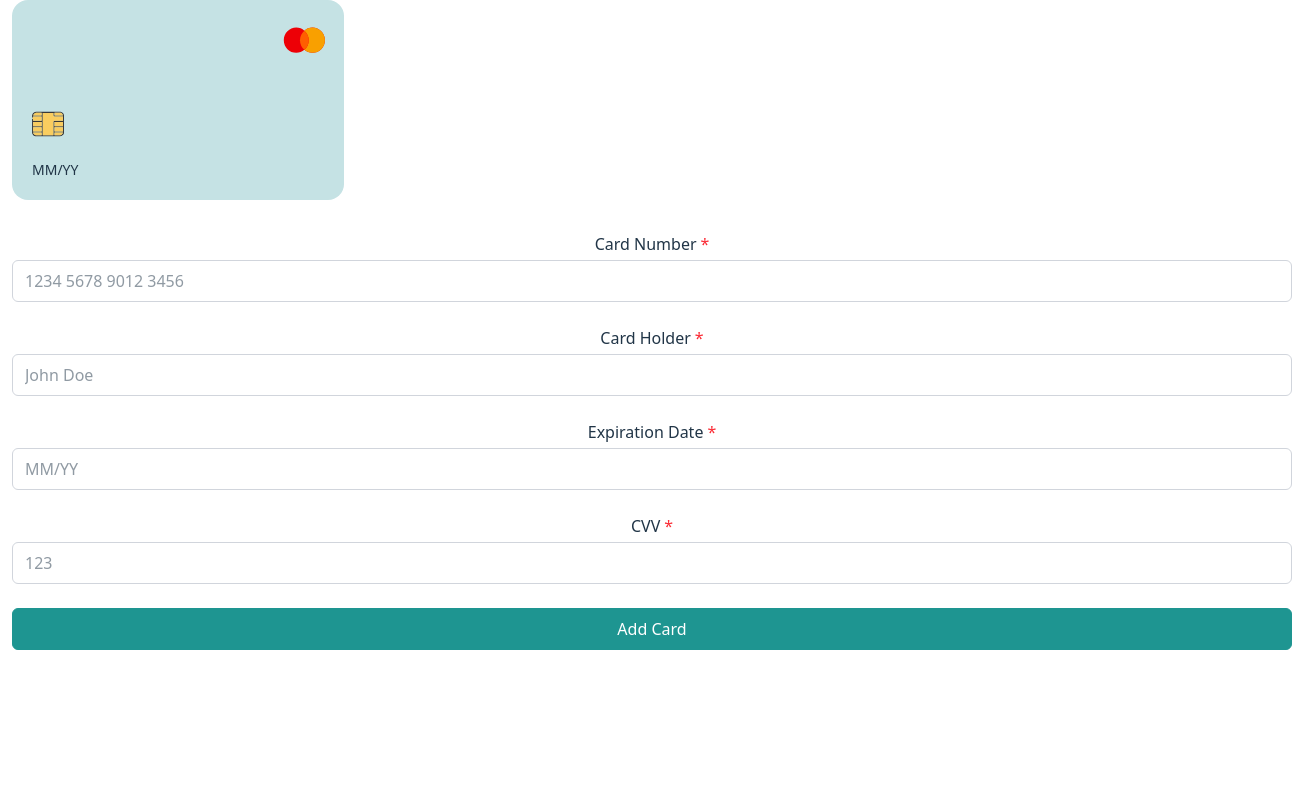
it: shows validation errors for invalid input
The width and height of the screenshot is (1304, 800).
Enter invalid data
Step 1. Type "123" into the field labelled "Card Number*" → [652, 281], box top-left (12, 260), bottom-right (1292, 302)
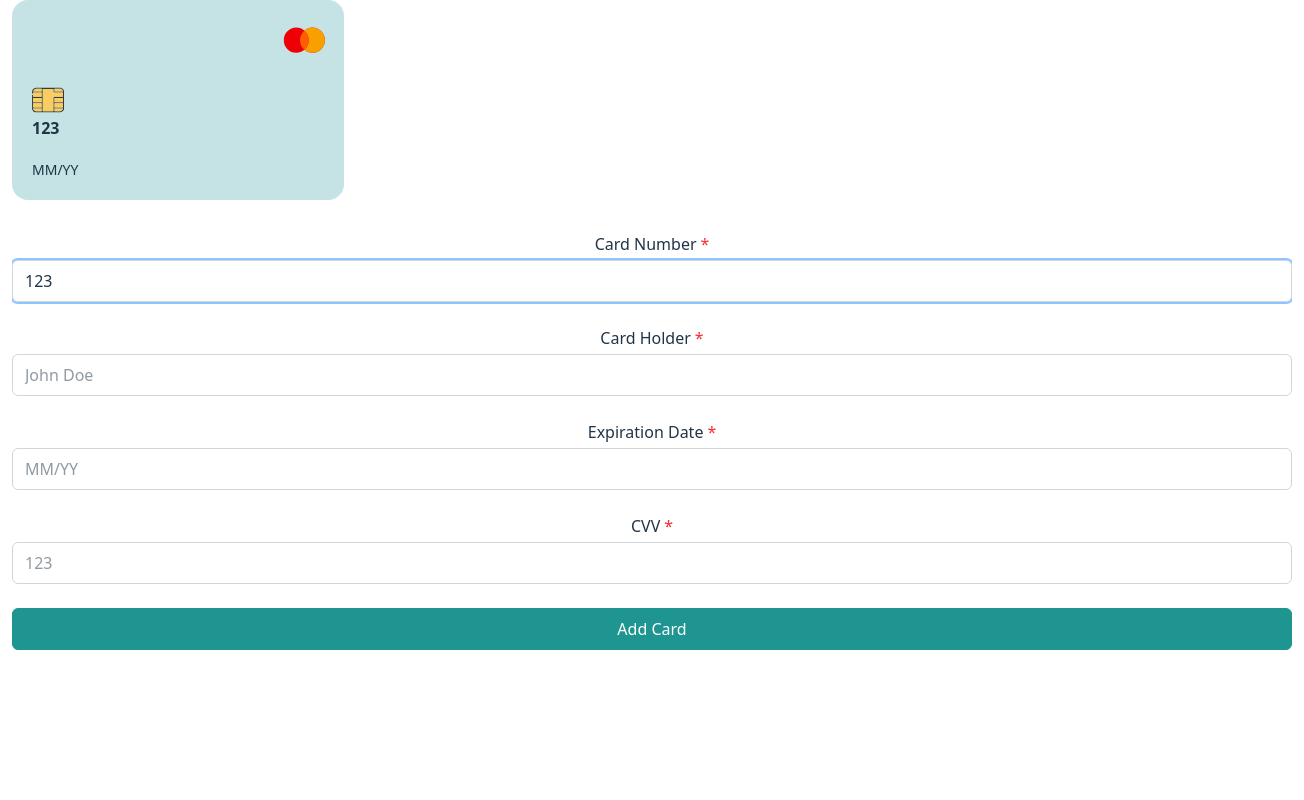
Step 2. Type "123" into the field labelled "Card Holder*" → [652, 375], box top-left (12, 354), bottom-right (1292, 396)
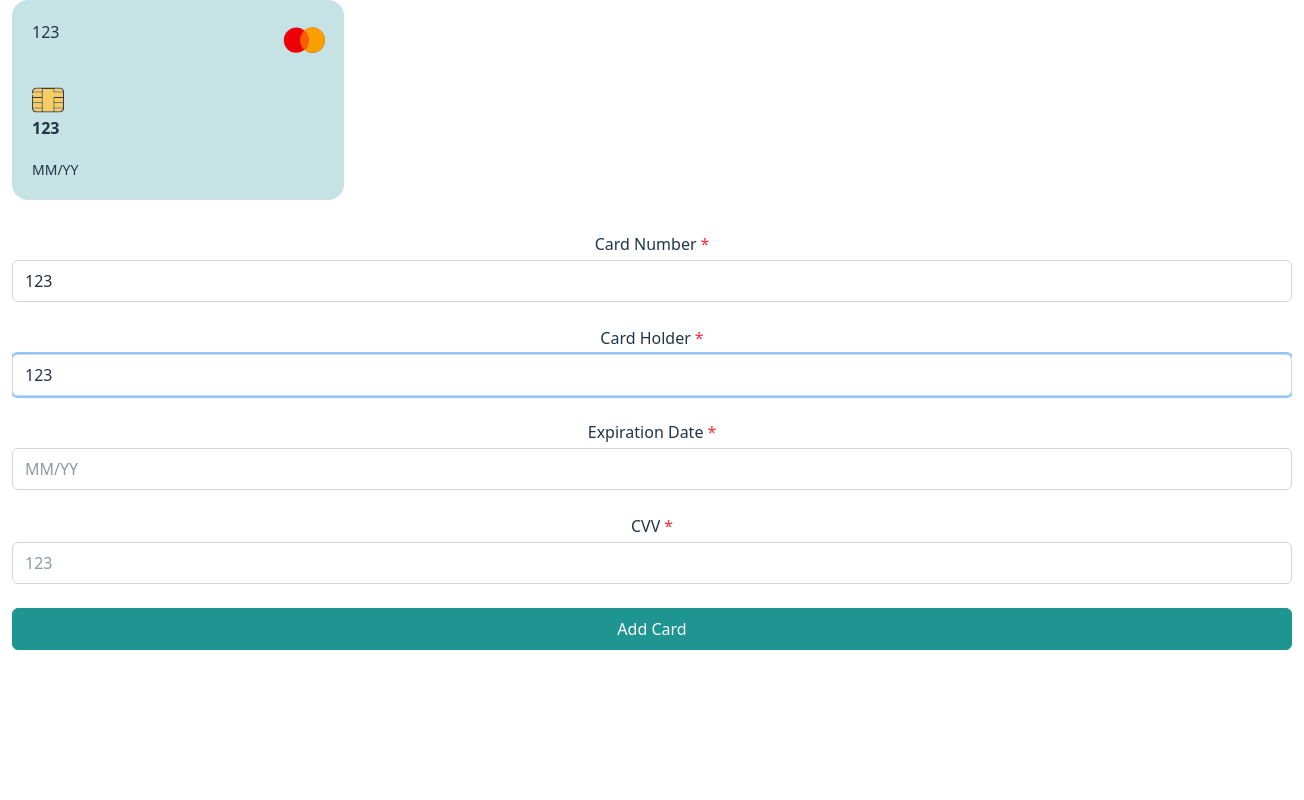
Step 3. Type "13/99" into the field labelled "Expiration Date*" → [652, 469], box top-left (12, 448), bottom-right (1292, 490)
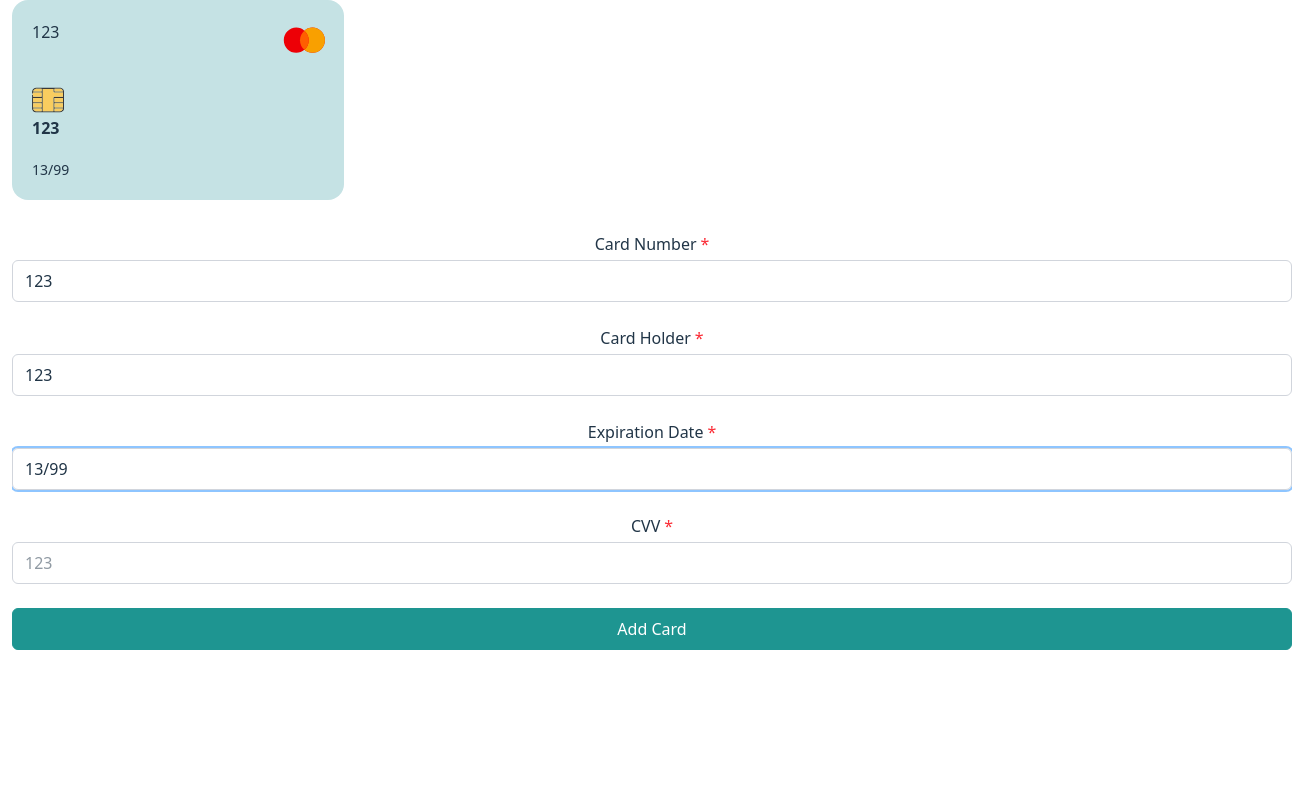
Step 4. Type "12" into the password field labelled "CVV*" → [652, 563], box top-left (12, 542), bottom-right (1292, 584)
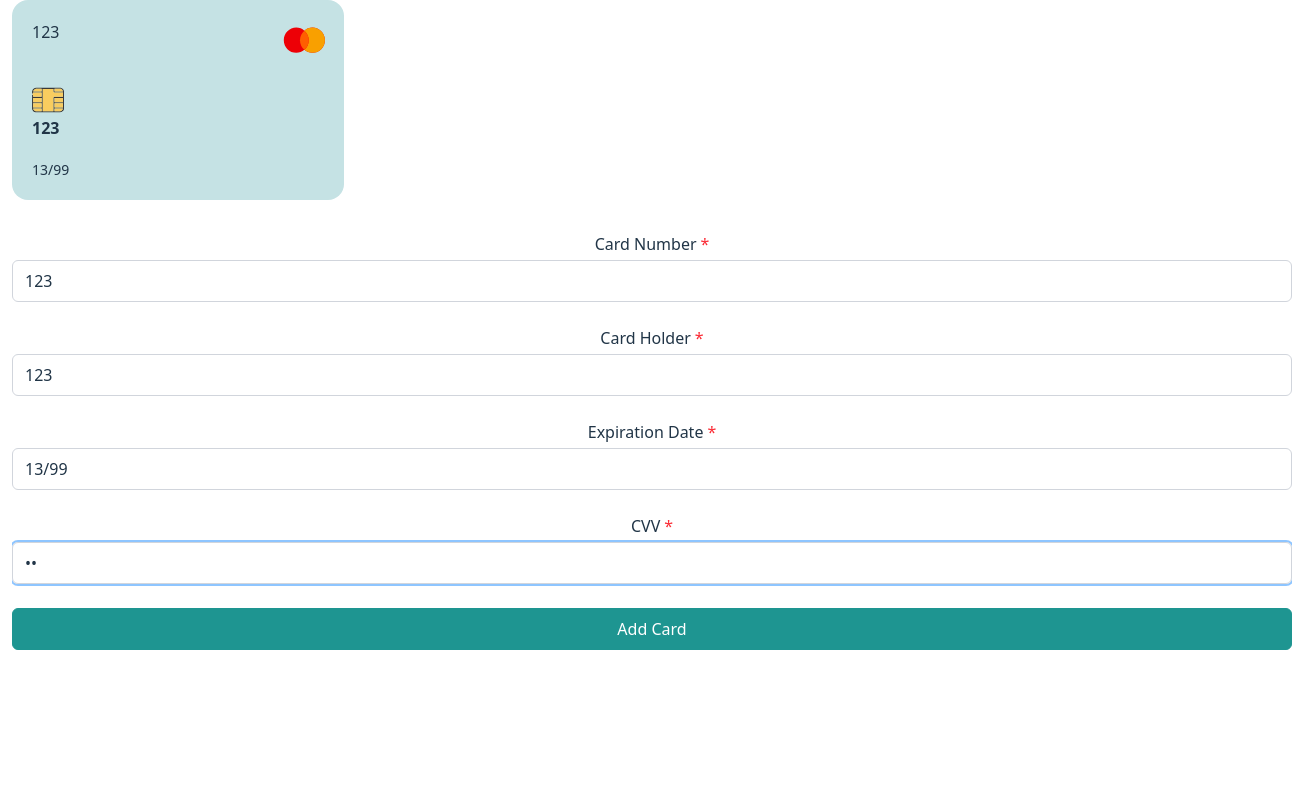
Step 5. Click the button "Add Card" → [652, 629], box top-left (12, 608), bottom-right (1292, 650)
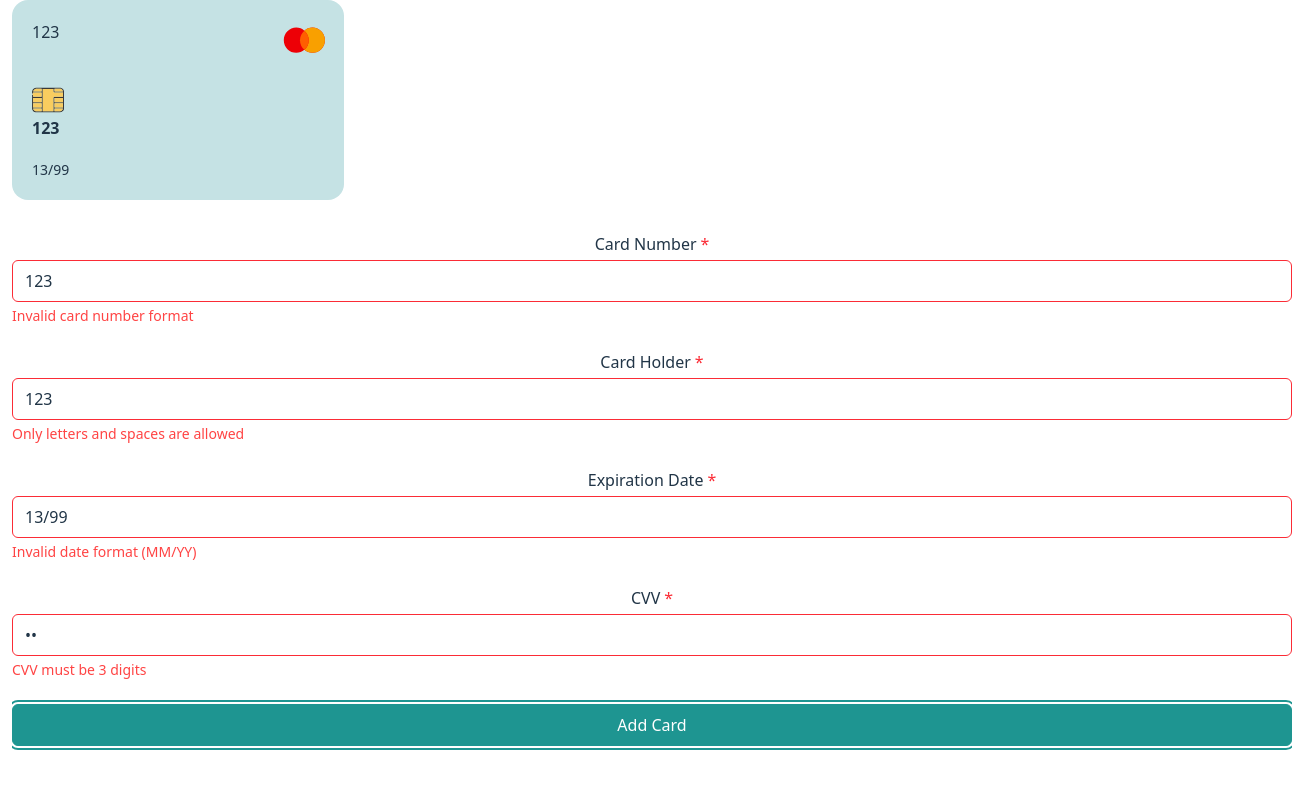
Check: the text "Invalid card number format" is shown, box top-left (12, 306), bottom-right (194, 325)
Check: the text "Only letters and spaces are allowed" is shown, box top-left (12, 424), bottom-right (244, 443)
Check: the text "Invalid date format (MM/YY)" is shown, box top-left (12, 542), bottom-right (196, 561)
